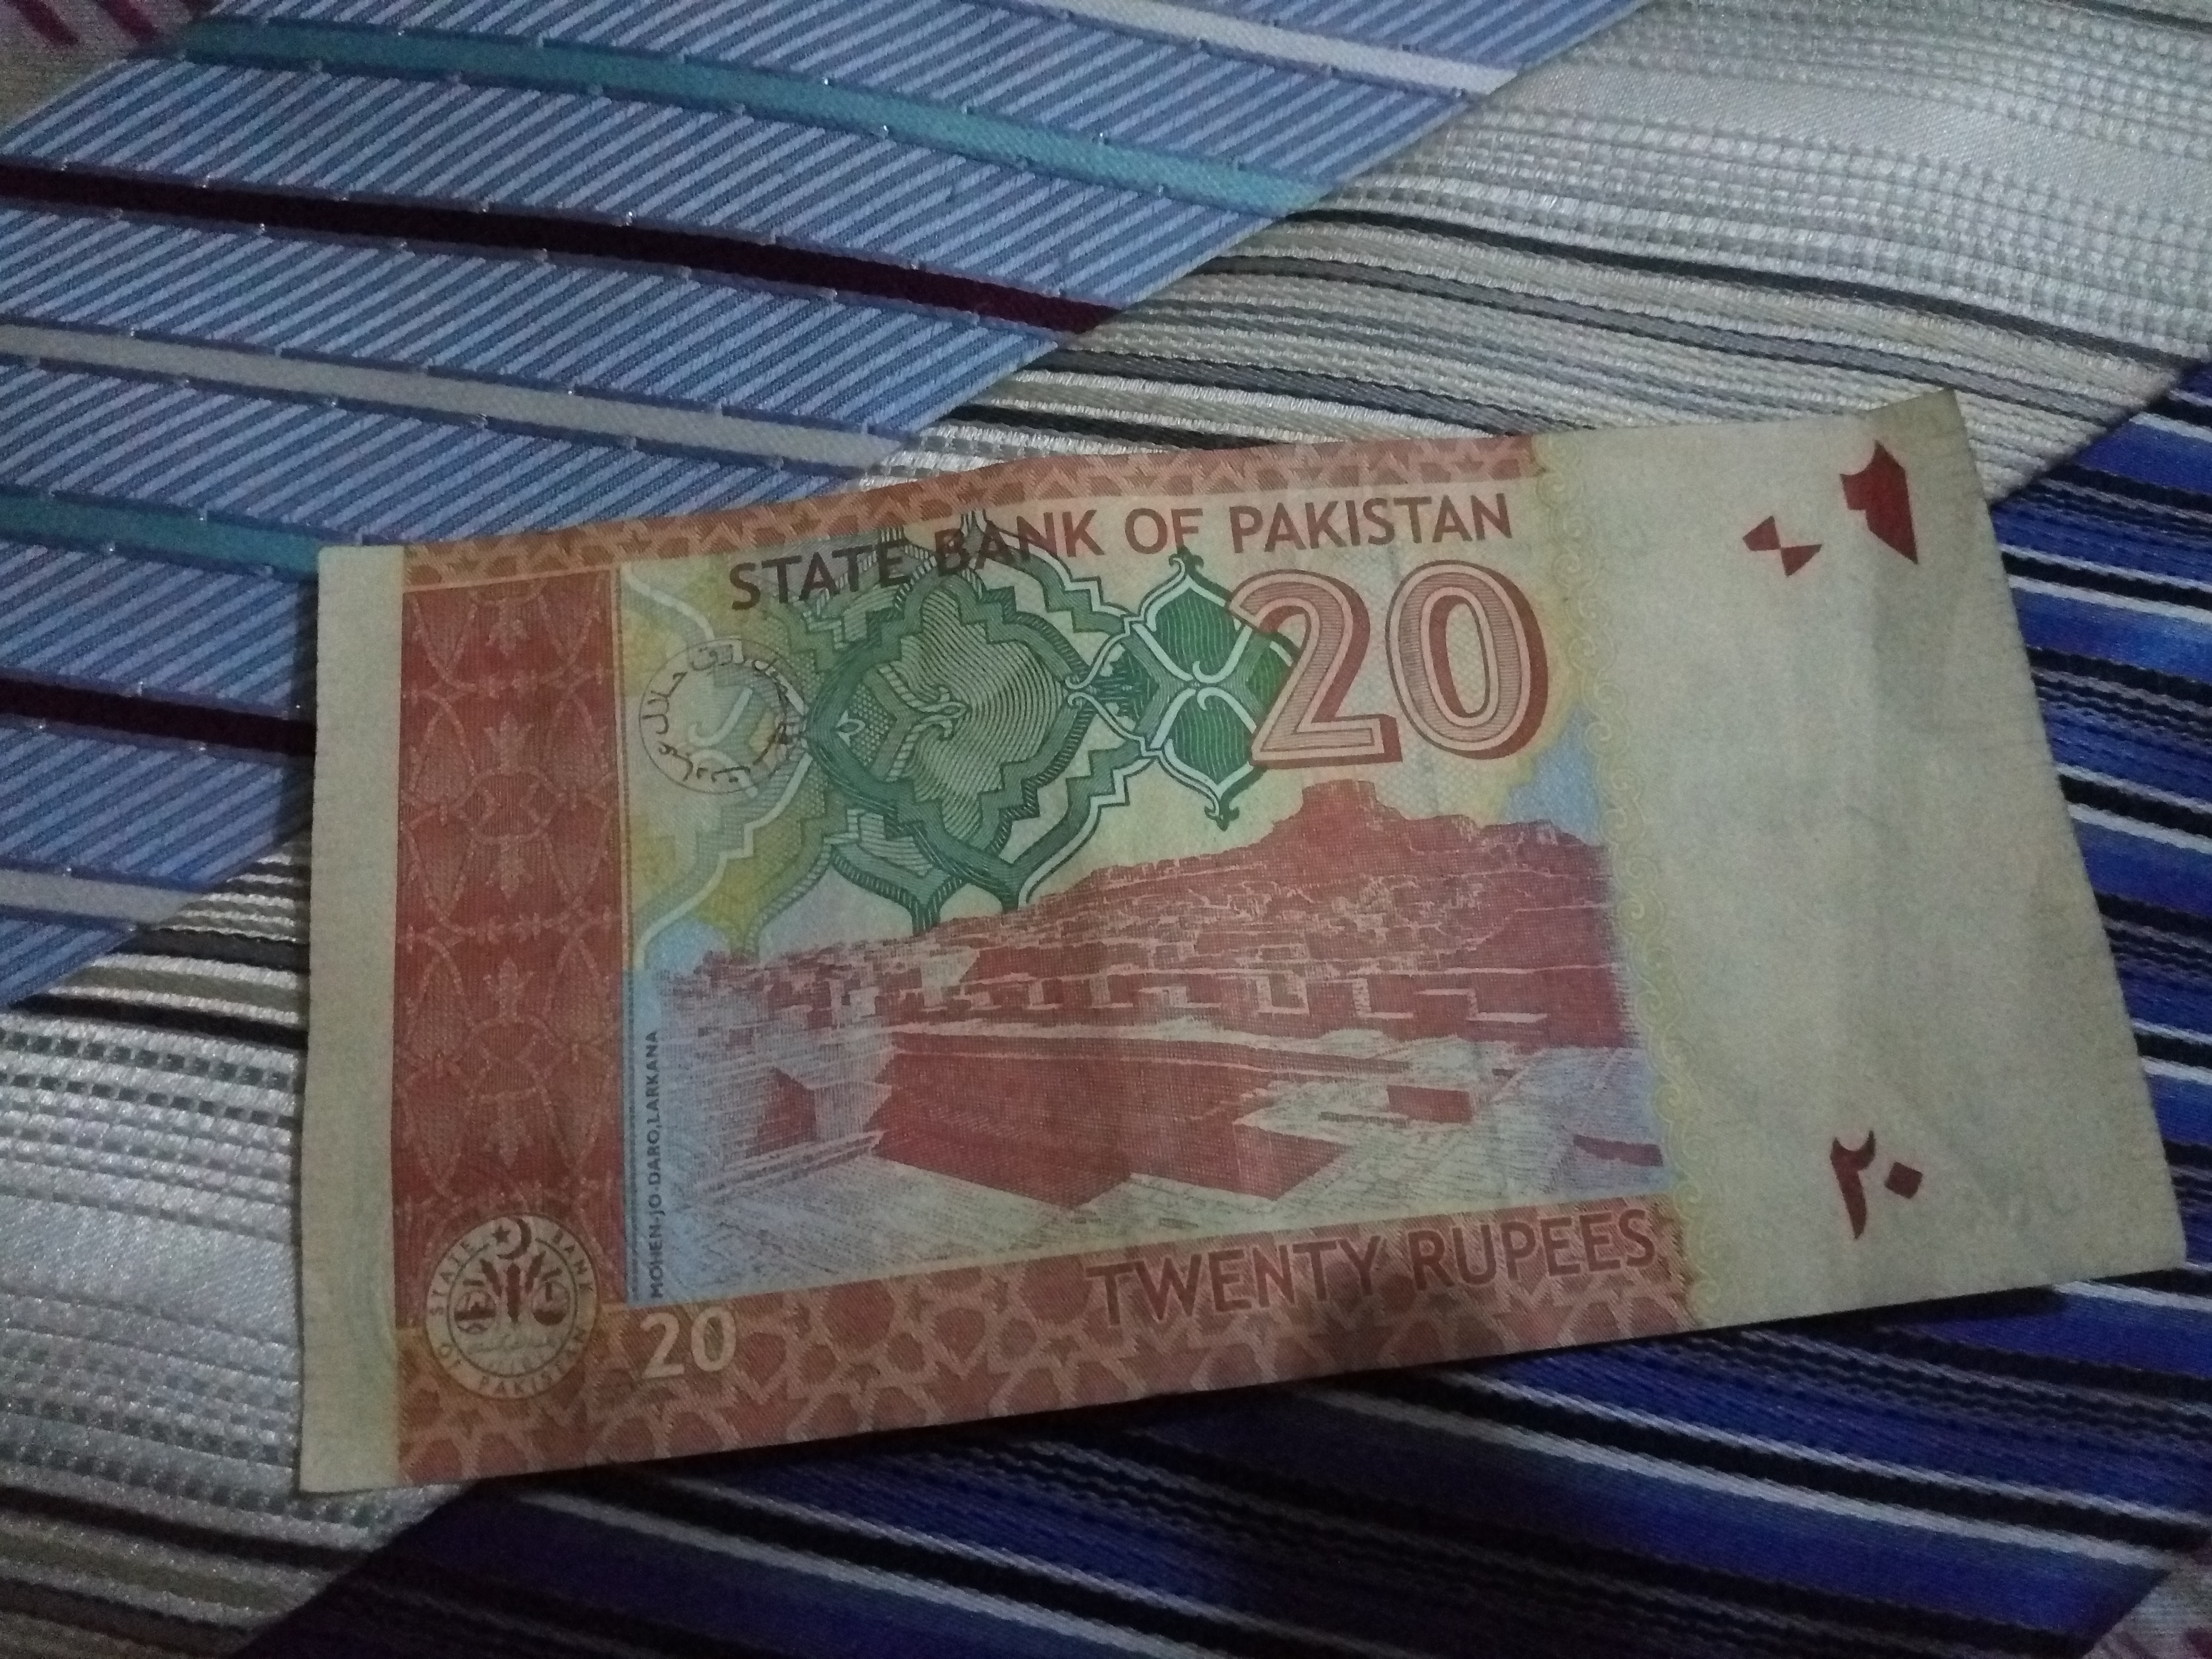20 rupee: (319, 448, 2144, 1497)
